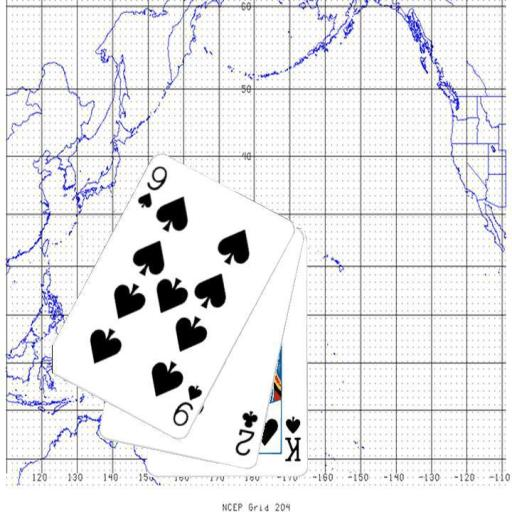card-corner: (134, 163, 170, 210), (169, 382, 204, 429), (232, 407, 259, 458), (282, 413, 303, 464)
